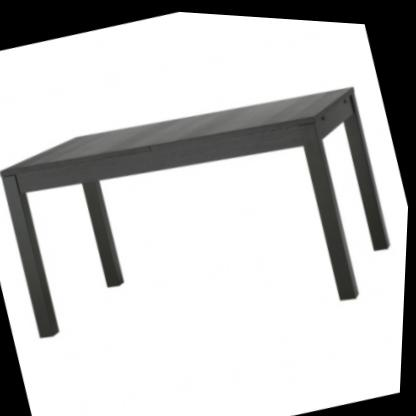Table: (0, 45, 414, 390)
